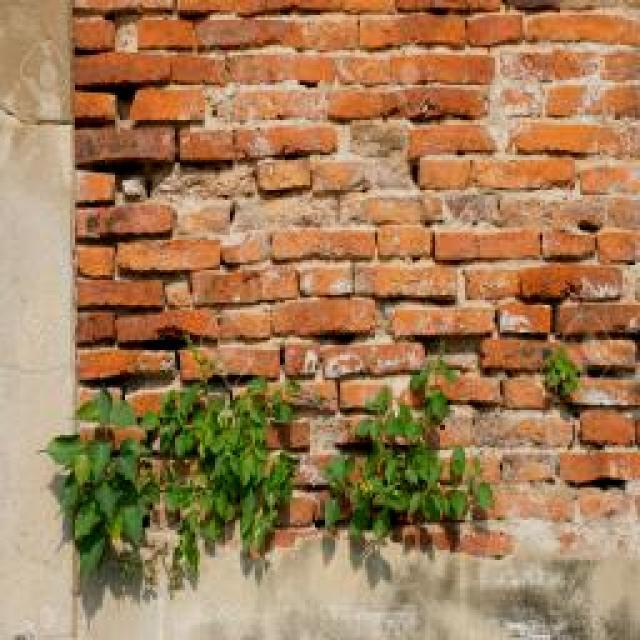Crack: (72, 0, 639, 561)
